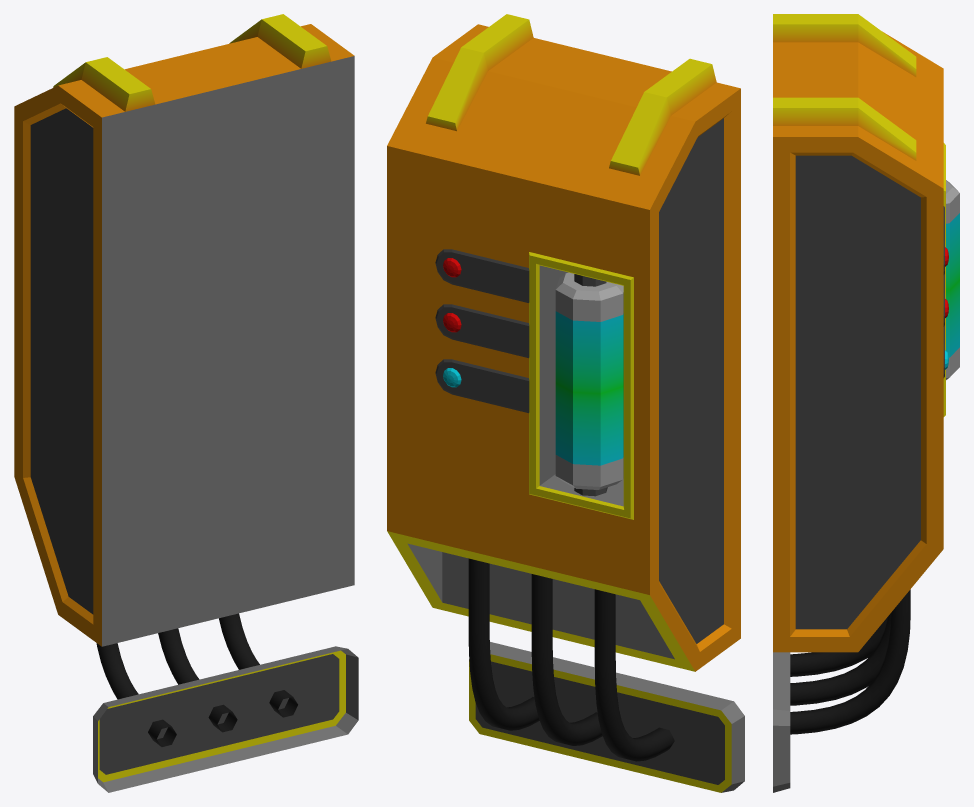
File: Generator.fbx
3 views of the same model, side by side, from view 1: azimuth 30°, elevation 25°; view 2: azimuth 150°, elevation 25°; view 3: azimuth 270°, elevation 25° (orthographic). The views are drawn at different scales.
Visible parts, largest first — view 1: FuseBox00; view 2: FuseBox00; view 3: FuseBox00.
Boxes of the visible parts, left/top/right/bottom form: FuseBox00: left=14, top=14, right=358, bottom=792; FuseBox00: left=387, top=14, right=744, bottom=792; FuseBox00: left=773, top=14, right=959, bottom=792.
Size of the model in its own units: 51.52 by 131 by 32.87.
